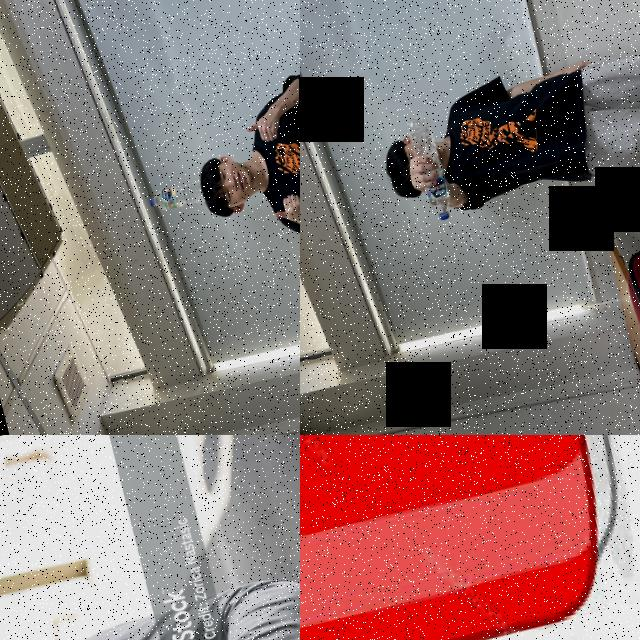bottle: (404, 111, 456, 222), (146, 176, 206, 212)
